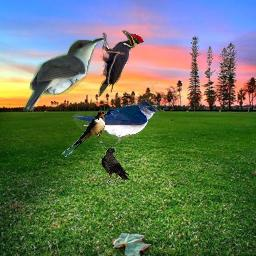Crow: (101, 147, 130, 184)
Cuckoo: (23, 37, 106, 112)
Swallow: (72, 101, 159, 144), (62, 111, 105, 157)
Woodpecker: (98, 30, 144, 97)
